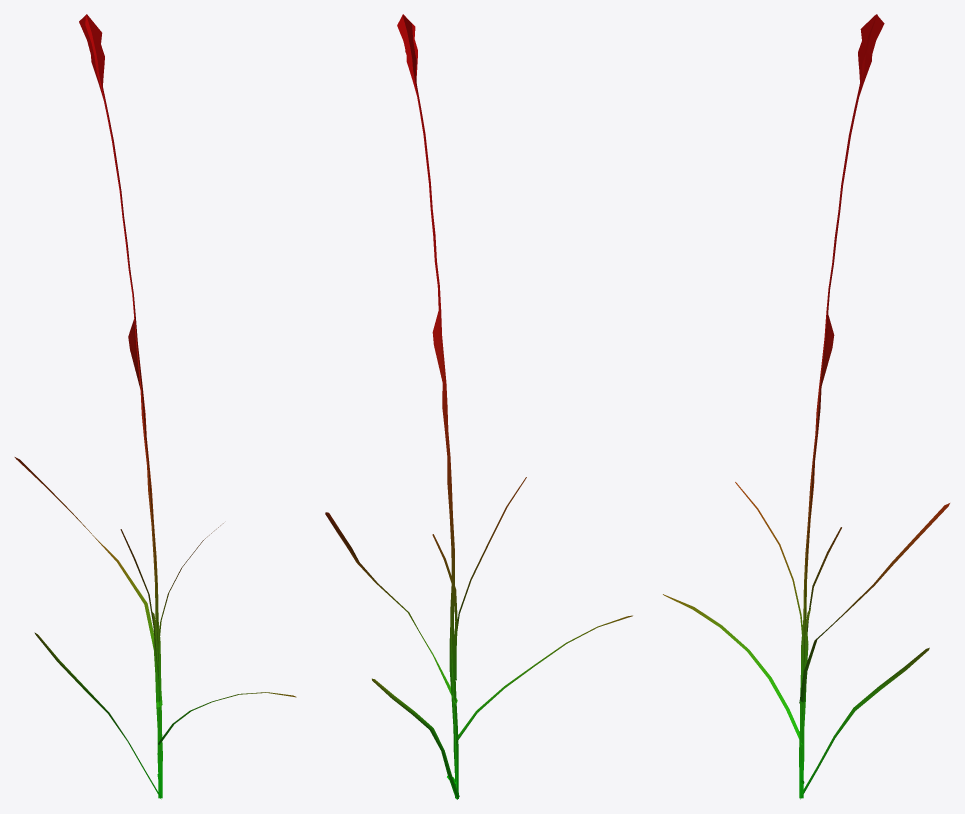
File: Tundra Grass_LOD0_Var35_wk2oaeyqx.fbx
3 views of the same model, side by side, from view 1: azimuth 90°, elevation 25°; view 2: azimuth 150°, elevation 25°; view 3: azimuth 270°, elevation 25° (orthographic). The views are drawn at different scales.
Visible parts, largest first — view 1: _al1v_Var35_LOD0; view 2: _al1v_Var35_LOD0; view 3: _al1v_Var35_LOD0.
Part boxes in pixels (x1=…): _al1v_Var35_LOD0: x1=14, y1=14, x2=296, y2=799; _al1v_Var35_LOD0: x1=325, y1=14, x2=632, y2=799; _al1v_Var35_LOD0: x1=663, y1=14, x2=949, y2=799.
Bounding box in the file's own units: 10.83 × 49.63 × 16.33.
